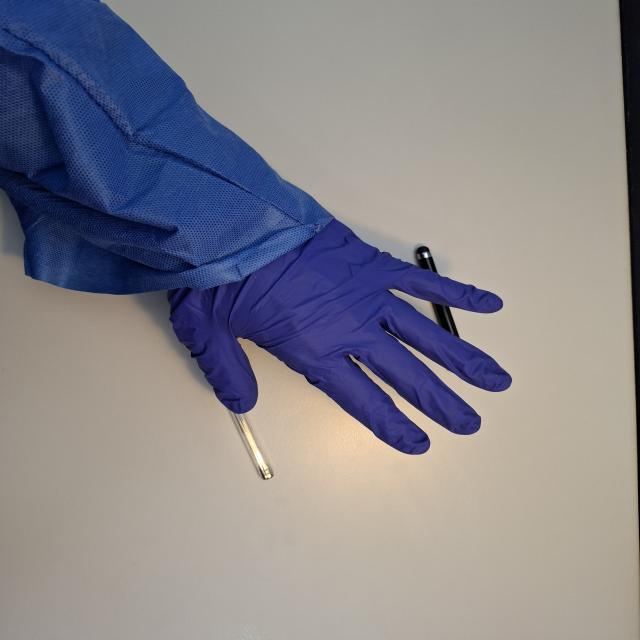glove_on: (158, 207, 517, 460)
